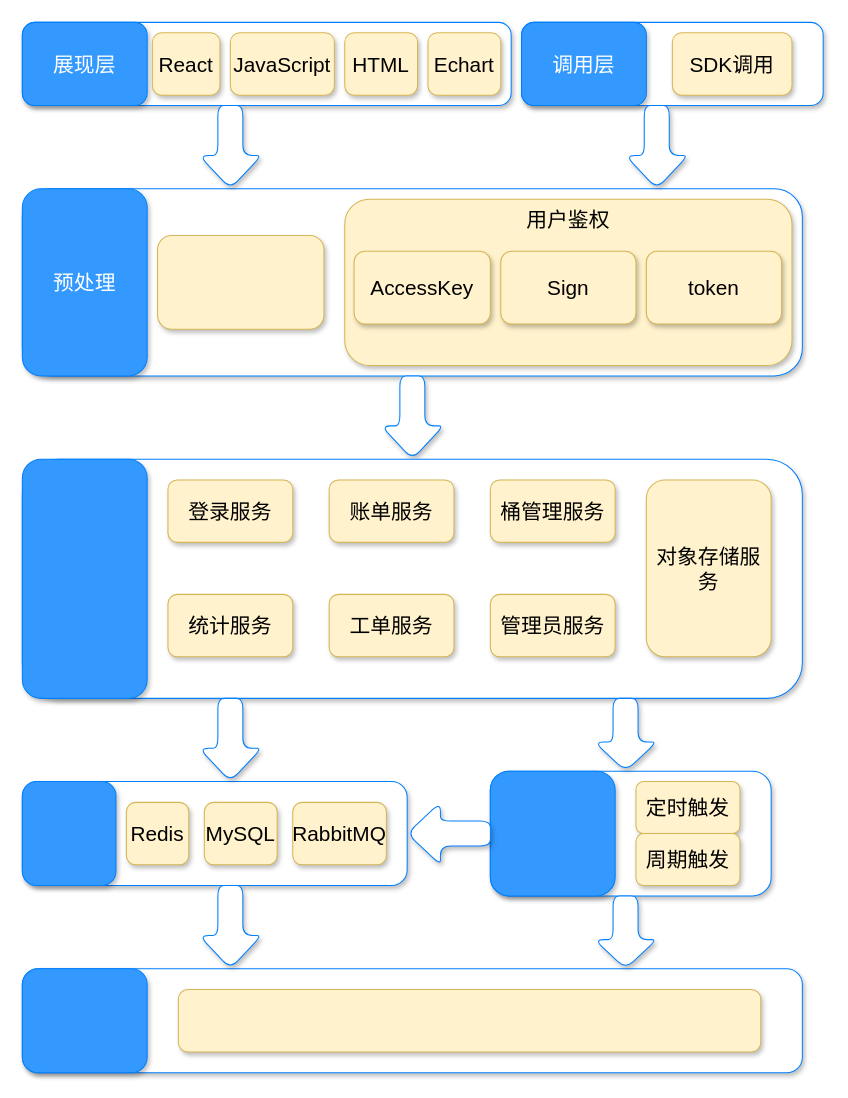
Image size: 848x1098. Some labels were removed from this diagram. Each missing label, with the centre of its shape:
"MinIO" goes at (x=470, y=1021).
"Redis限流" goes at (x=241, y=283).
"存储层" goes at (x=85, y=1022).
"持久层" goes at (x=69, y=834).
"服务层" goes at (x=85, y=580).
"调度" goes at (x=553, y=834).
